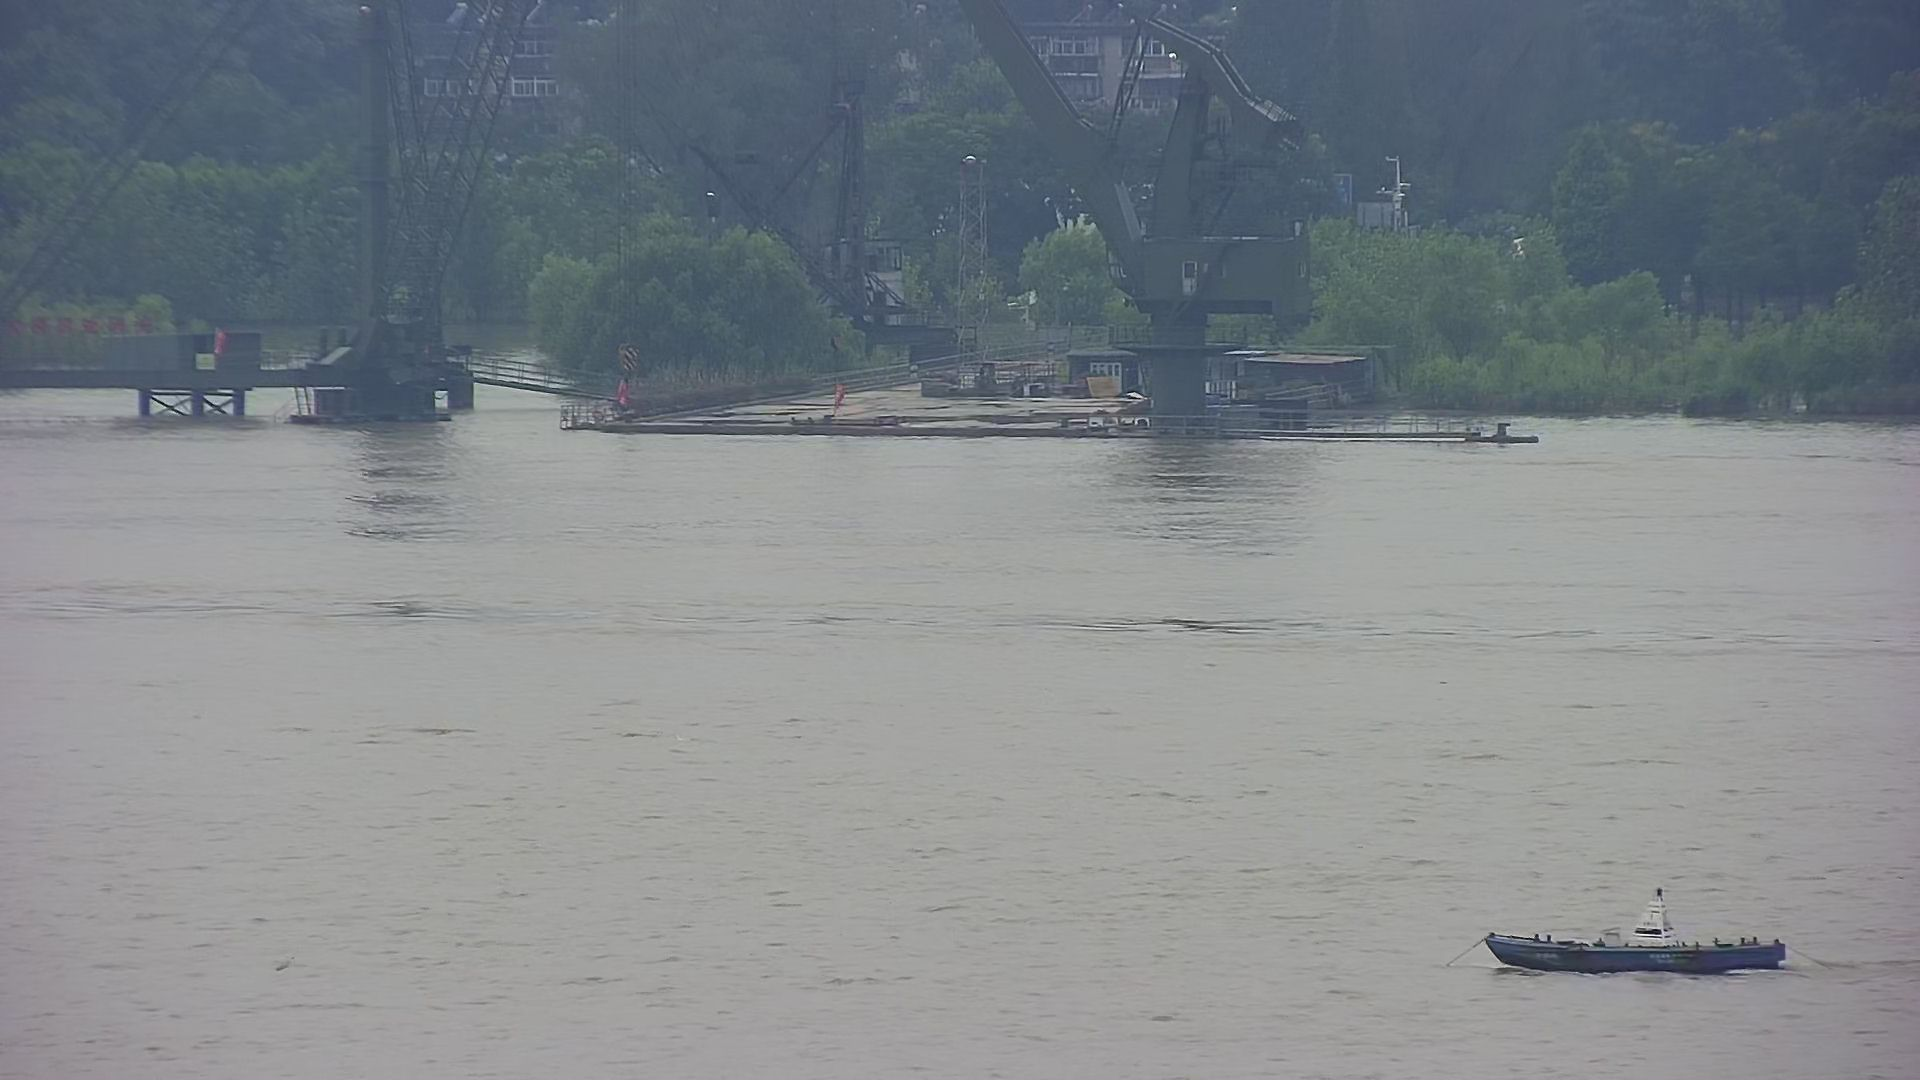boat: (1481, 878, 1783, 984)
platform: (1, 1, 505, 433)
